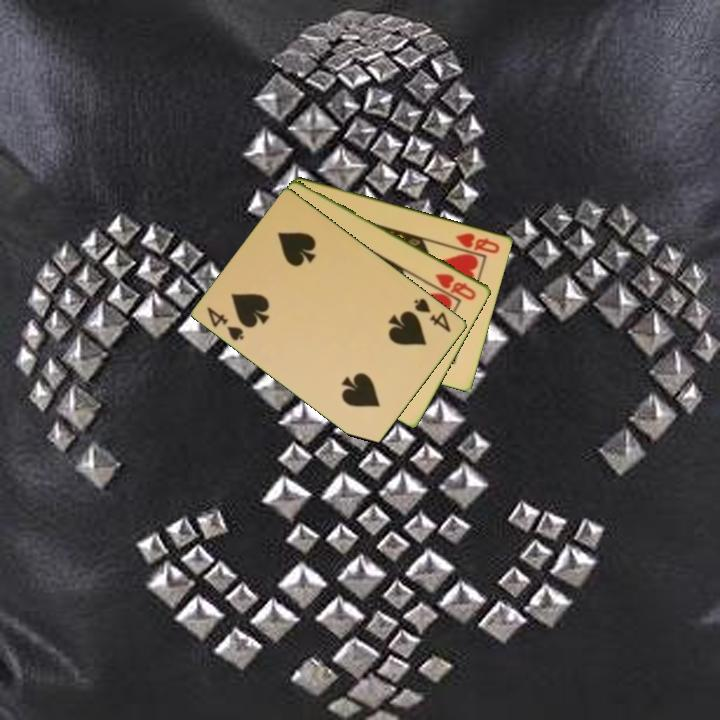4s: (410, 294, 454, 335), (203, 303, 247, 344)
Qh: (432, 270, 479, 303), (453, 229, 503, 256)
